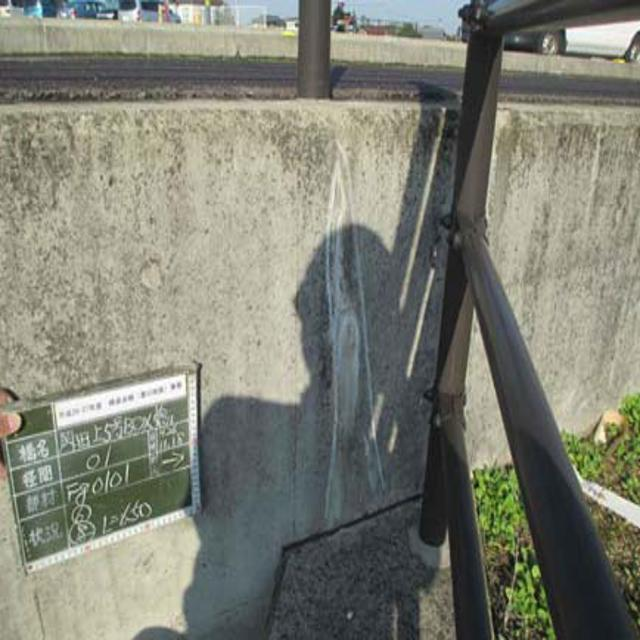freelime: (314, 150, 392, 487)
